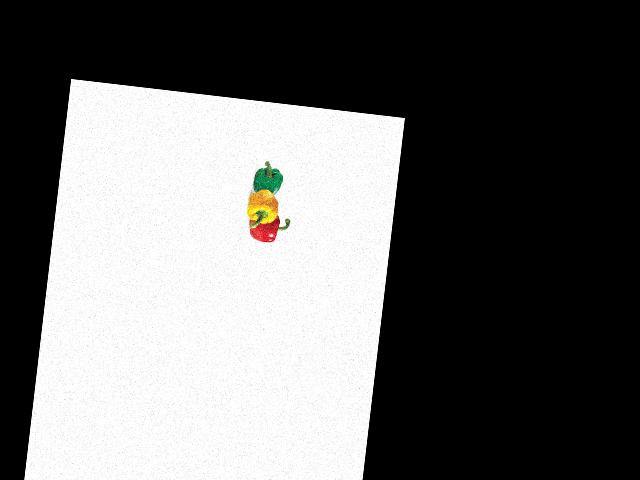bell_pepper: (249, 160, 287, 199)
